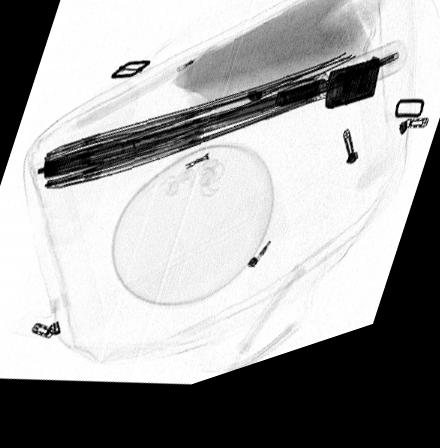Lighter: (326, 82, 381, 129)
